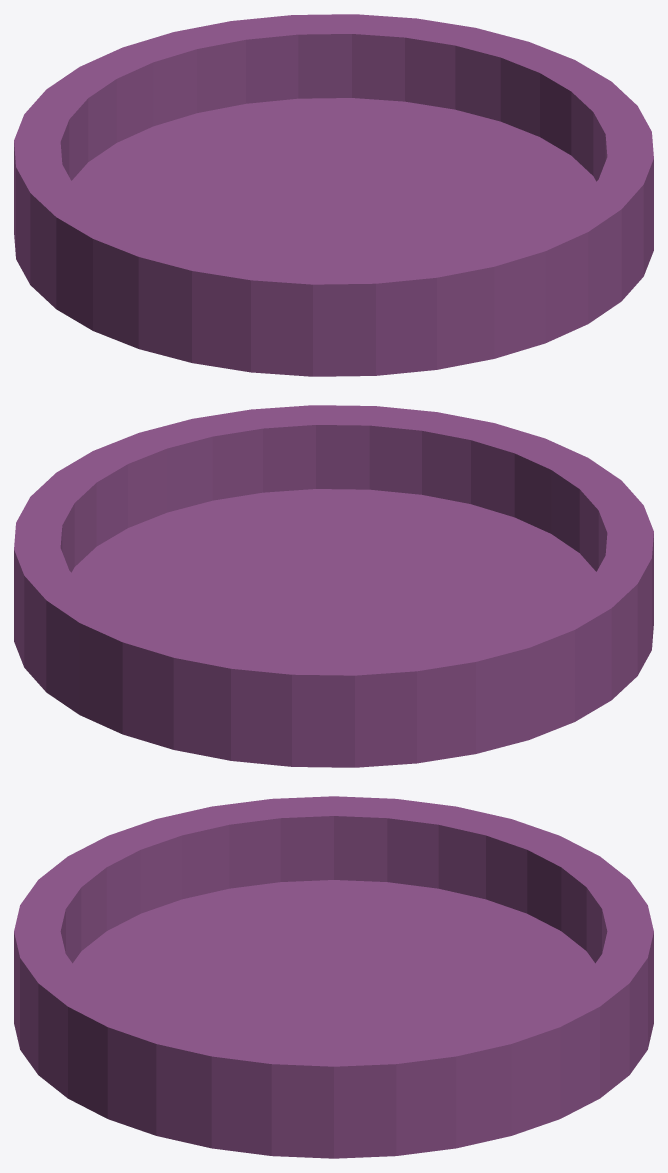
The model's file is purplecyl.fbx.
3 renders of one model, top to bottom at view 1: azimuth 30°, elevation 25°; view 2: azimuth 150°, elevation 25°; view 3: azimuth 270°, elevation 25°, orthographic.
Parts seen in each view (by area): view 1: Cylinder; view 2: Cylinder; view 3: Cylinder.
Part boxes in pixels (<box>): Cylinder: <box>14,14,653,376</box>; Cylinder: <box>14,405,653,767</box>; Cylinder: <box>14,796,653,1158</box>.
Bounding box in the file's own units: 200 × 31.71 × 200.
